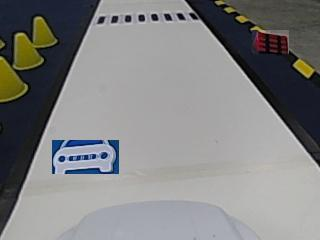crosswalk: (95, 12, 197, 24)
